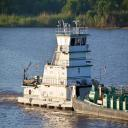tugboat: (17, 19, 106, 115)
